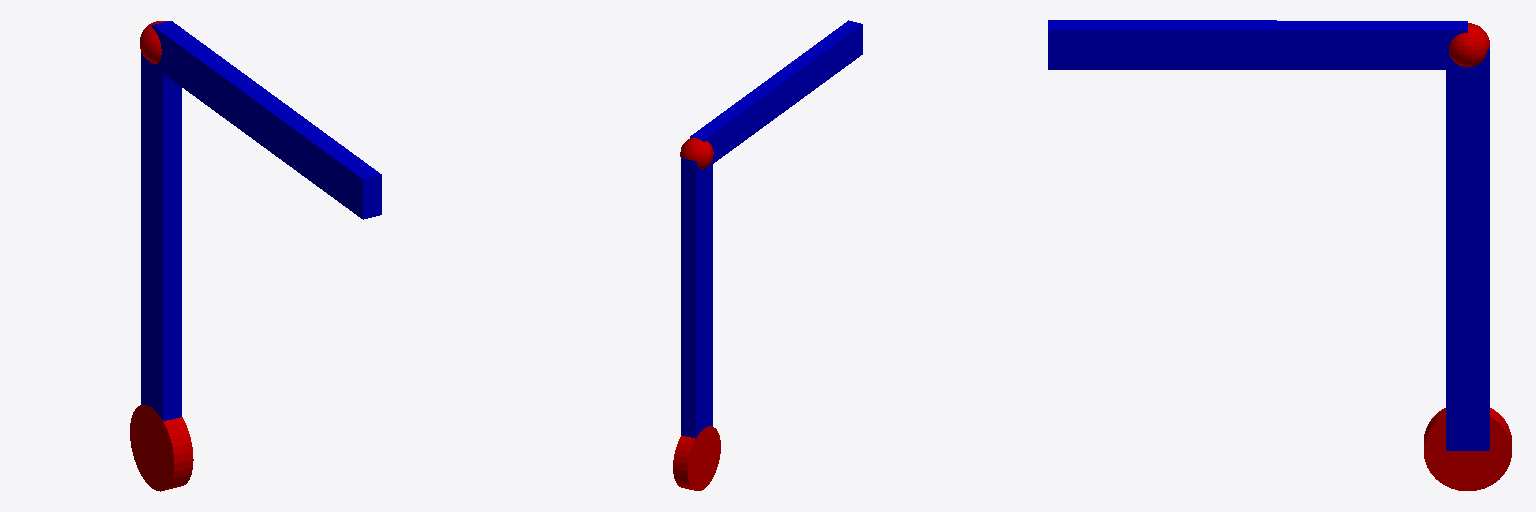
robot.urdf — TwoLinkStruct7030441036:
<?xml version="1.0"?>
<robot  name="TwoLinkStruct7030441036" >
 <material  name="blue" >
  <color  rgba="0 0 0.8 1.0" />
 </material>
 <material  name="red" >
  <color  rgba="0.8 0 0 1.0" />
 </material>
 <link  name="base_link" >
  <visual >
   <origin  rpy="0 1.5707 0"  xyz="0 0 0" />
   <material  name="red" />
   <geometry >
    <cylinder  length="0.05"  radius="0.1" />
   </geometry>
  </visual>
 </link>
 <joint  type="revolute"  name="joint1" >
  <parent  link="base_link" />
  <child  link="link1" />
  <origin  xyz="0 0 0"  rpy="0 0 0" />
  <axis  xyz="1 0 0" />
 </joint>
 <link  name="link1" >
  <inertial >
   <origin  rpy="0 0 0"  xyz="0 0 0.5" />
   <mass  value="4.021794319152832" />
   <inertia  ixy="0.0"  iyy="0.001675747632980347"  izz="0.3359874004125595"  ixz="0.0"  ixx="0.3359874004125595"  iyz="0.0" />
  </inertial>
  <visual >
   <origin  rpy="0 0 0"  xyz="0 0 0.5" />
   <material  name="blue" />
   <geometry >
    <box  size="0.05 0.1 1.0" />
   </geometry>
  </visual>
 </link>
 <joint  type="fixed"  name="joint-joint-1" >
  <parent  link="link1" />
  <child  link="joint-link-1" />
  <origin  xyz="0 0 1.0"  rpy="1.5707 0 0" />
  <axis  xyz="1 0 0" />
 </joint>
 <link  name="joint-link-1" >
  <inertial >
   <origin  rpy="0 0 0"  xyz="0 0 0" />
   <mass  value="5.0" />
   <inertia  ixy="0"  iyy="0"  izz="0"  ixz="0"  ixx="0"  iyz="0" />
  </inertial>
  <visual >
   <origin  rpy="0 0 0"  xyz="0 0 0" />
   <material  name="red" />
   <geometry >
    <sphere  radius="0.05" />
   </geometry>
  </visual>
 </link>
 <joint  type="revolute"  name="joint2" >
  <parent  link="link1" />
  <child  link="link2" />
  <origin  xyz="0 0 1.0"  rpy="1.5707 0 0" />
  <axis  xyz="1 0 0" />
 </joint>
 <link  name="link2" >
  <inertial >
   <origin  rpy="0 0 0"  xyz="0 0 0.47433891418844387" />
   <mass  value="3.6821622628345847" />
   <inertia  ixy="0.0"  iyy="0.001675747632980347"  izz="0.302468969589226"  ixz="0.0"  ixx="0.302468969589226"  iyz="0.0" />
  </inertial>
  <visual >
   <origin  rpy="0 0 0"  xyz="0 0 0.47433891418844387" />
   <material  name="blue" />
   <geometry >
    <box  size="0.05 0.1 0.9486778283768877" />
   </geometry>
  </visual>
 </link>
 <joint  type="fixed"  name="eef_joint" >
  <parent  link="link2" />
  <child  link="eef" />
  <origin  xyz="0 0 0.9486778283768877"  rpy="0 0 0" />
 </joint>
 <link  name="eef" >
  <inertial >
   <origin  rpy="0 0 0"  xyz="0 0 0" />
   <mass  value="1" />
   <inertia  ixy="0"  iyy="0"  izz="0"  ixz="0"  ixx="0"  iyz="0" />
  </inertial>
 </link>
 <transmission  name="motor1" >
  <type  xmltext="SimpleTransmission" >
   SimpleTransmission
  </type>
  <actuator  name="motor1" >
   <mechanicalreduction  xmltext="1" >
    1
   </mechanicalreduction>
  </actuator>
  <joint  name="joint1" />
 </transmission>
 <transmission  name="motor2" >
  <type  xmltext="SimpleTransmission" >
   SimpleTransmission
  </type>
  <actuator  name="motor2" >
   <mechanicalreduction  xmltext="1" >
    1
   </mechanicalreduction>
  </actuator>
  <joint  name="joint2" />
 </transmission>
</robot>

<!-- {'carti': array([-0.1 ,  0.14,  0.85]), 'cartd': array([-0.1 ,  0.32,  1.29]), 'tau_mu': 1.0, 'b0': 0.0, 'Km': 3.9205007236935825, 'k_velocity': 100.0, 'tau_max_m': 4.190607415712202, 'omega_max_m': 1000.0, 'gear_ratio': 0.1, 'Kp': 20.760546520314072, 'Kd': 0.0, 'm_m': 5.0, 'l1': 1.0, 'l2': 0.9486778283768877, 'k1': 30900.0, 'k2': 379000000.0, 'k3': 379000000.0}-->

--- What the picture shows (computed from the rendered views, not written in the file) ---
Views: 3 orthographic renders of the robot side by side, from view 1: azimuth 30°, elevation 25°; view 2: azimuth 150°, elevation 25°; view 3: azimuth 270°, elevation 25°.
Model TwoLinkStruct7030441036 with 5 links and 4 joints (2 revolute, 2 fixed), rooted at base_link, posed all joints at 0.
Links seen in each view (by area): view 1: link1, link2, base_link, joint-link-1; view 2: link1, link2, base_link, joint-link-1; view 3: link2, link1, base_link, joint-link-1.
Link boxes in pixels (bbox=[...]): link1: bbox=[141, 52, 181, 420]; link2: bbox=[152, 21, 381, 219]; base_link: bbox=[130, 405, 193, 491]; joint-link-1: bbox=[140, 21, 166, 63]; link1: bbox=[681, 157, 712, 438]; link2: bbox=[690, 20, 862, 164]; base_link: bbox=[673, 426, 720, 490]; joint-link-1: bbox=[680, 138, 713, 168]; link2: bbox=[1048, 20, 1467, 69]; link1: bbox=[1446, 47, 1489, 450]; base_link: bbox=[1424, 408, 1511, 490]; joint-link-1: bbox=[1449, 23, 1489, 66].
Size in the robot's own frame: 0.1 by 1.05 by 1.15 metres.
Geometry: primitives only (box / cylinder / sphere), no mesh files.
